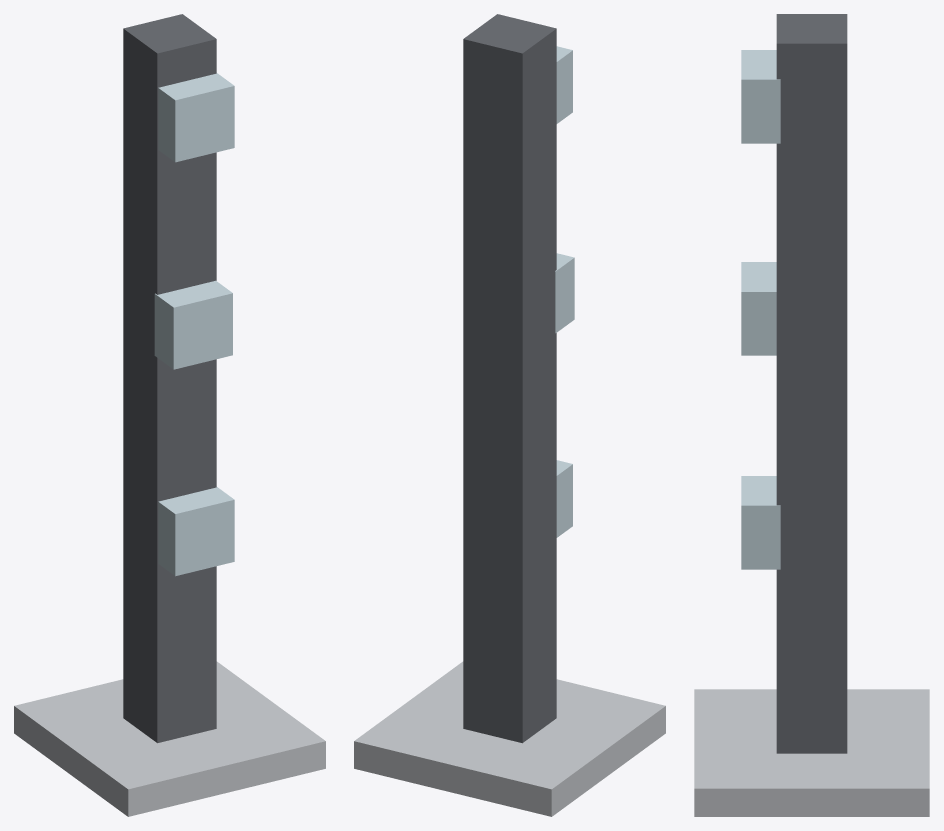
Rendered from bank-vault-heist-kit-laser-receiver-post-2d0c8423__25103.glb.
The picture shows the model from 3 angles, left to right: view 1: azimuth 30°, elevation 25°; view 2: azimuth 150°, elevation 25°; view 3: azimuth 270°, elevation 25°; orthographic projection. The views are drawn at different scales.
Parts seen in each view (by area): view 1: laser-receiver-post; view 2: laser-receiver-post; view 3: laser-receiver-post.
Part boxes in pixels (box(x1,y1,x2,y2)): laser-receiver-post: box(14, 14, 325, 816); laser-receiver-post: box(354, 14, 665, 816); laser-receiver-post: box(694, 14, 929, 816).
Bounding box in the file's own units: 0.3 × 1.04 × 0.3.
